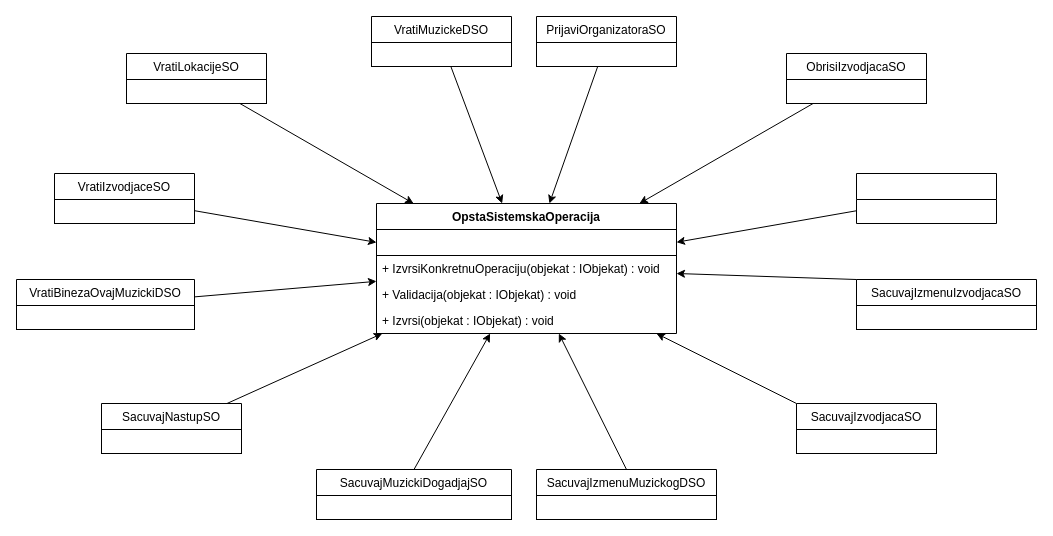
The diagram is 1053 pixels wide and 536 high, and some of its shapes have lost their labels. The shapes that lost their labels are listed below. From the top down, each one's centre as x and y in pixels, then its label:
the point at 926,198: ObrisiMuzickiDSO
the point at 526,242: - broker : Broker
